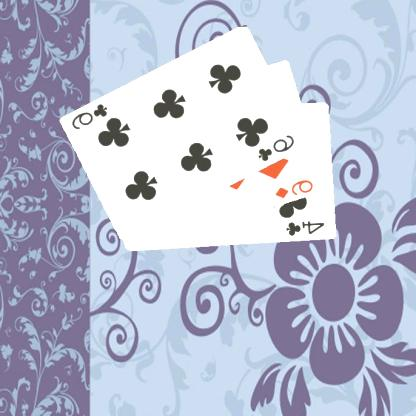4C: (286, 218, 328, 237)
6C: (257, 132, 298, 163), (71, 101, 112, 131)
9D: (274, 177, 317, 200)
